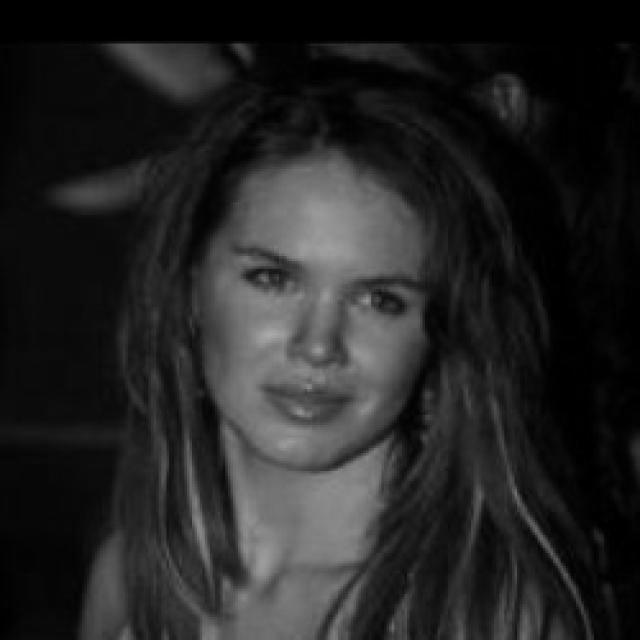real: (196, 136, 437, 463), (228, 236, 427, 341)
